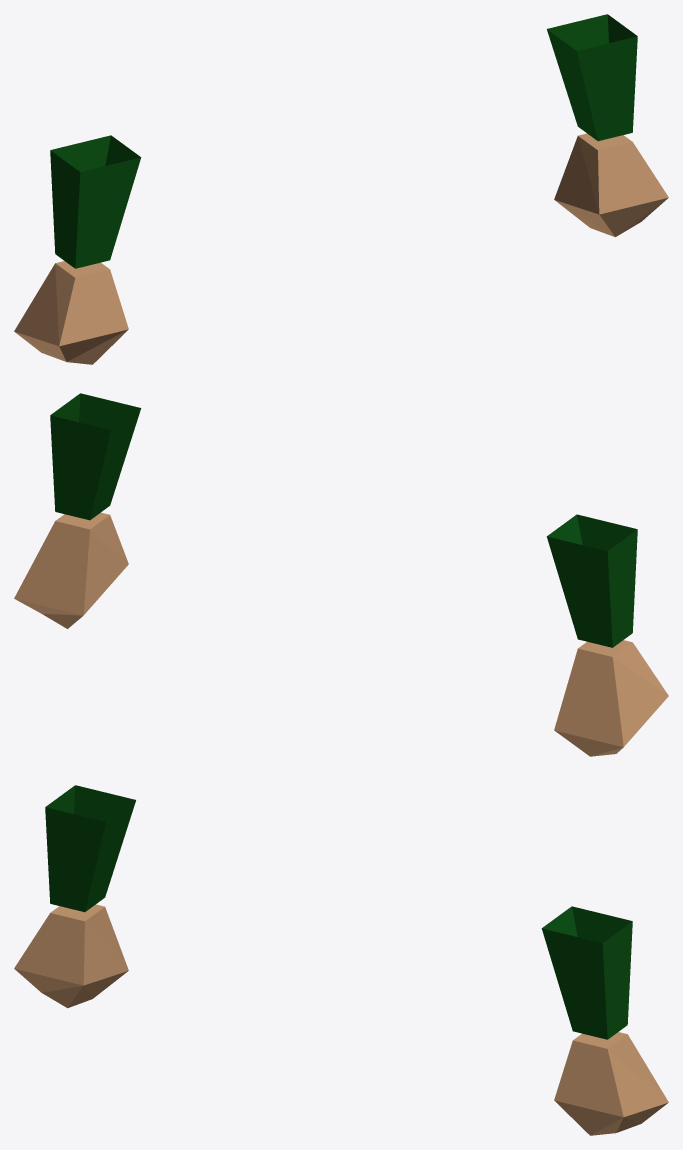
The model's file is itm_model0m_red_dragonhide_vambraces.obj.
3 renders of one model, top to bottom at view 1: azimuth 30°, elevation 25°; view 2: azimuth 150°, elevation 25°; view 3: azimuth 330°, elevation 25°, orthographic.
Bounding box in the file's own units: 0.5469 × 0.1797 × 0.0703.
